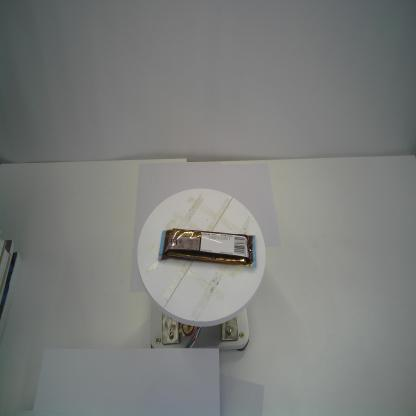Chocolate: (156, 226, 260, 271)
